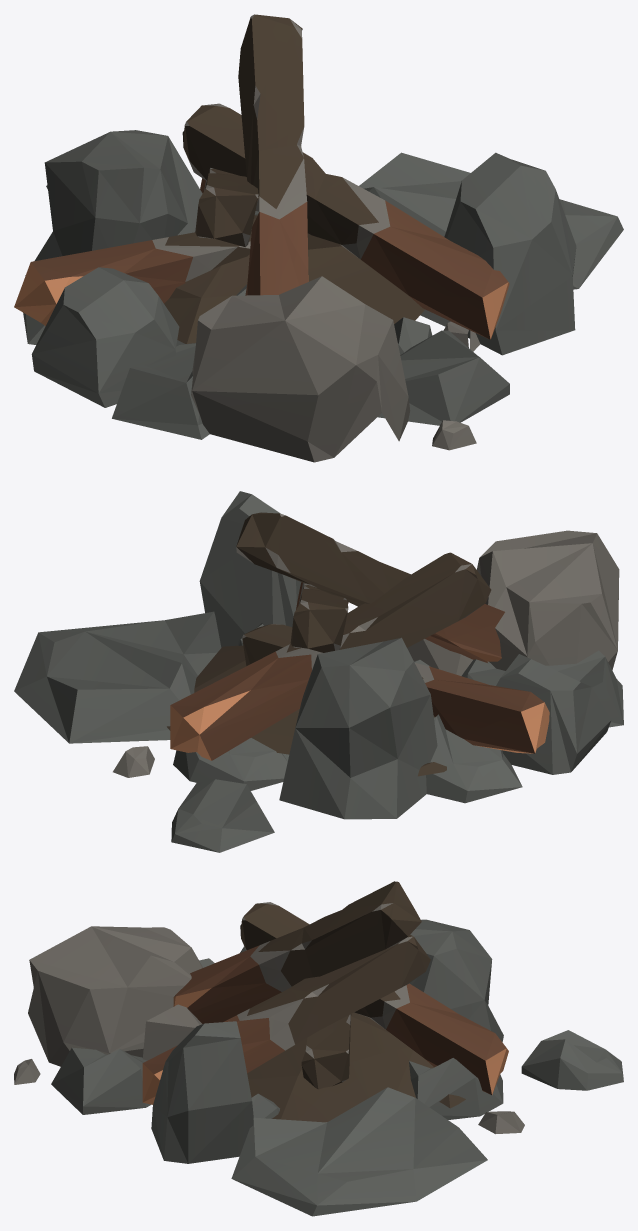
Rendered from CampFire.fbx.
The picture shows the model from 3 angles, top to bottom: view 1: azimuth 30°, elevation 25°; view 2: azimuth 150°, elevation 25°; view 3: azimuth 270°, elevation 25°; orthographic projection. The views are drawn at different scales.
Visible parts, largest first — view 1: CampFire; view 2: CampFire; view 3: CampFire.
Part boxes in pixels (<box>): CampFire: <box>14,14,623,462</box>; CampFire: <box>14,491,623,852</box>; CampFire: <box>14,881,623,1216</box>.
Size of the model in its own units: 92.85 by 38.16 by 101.
